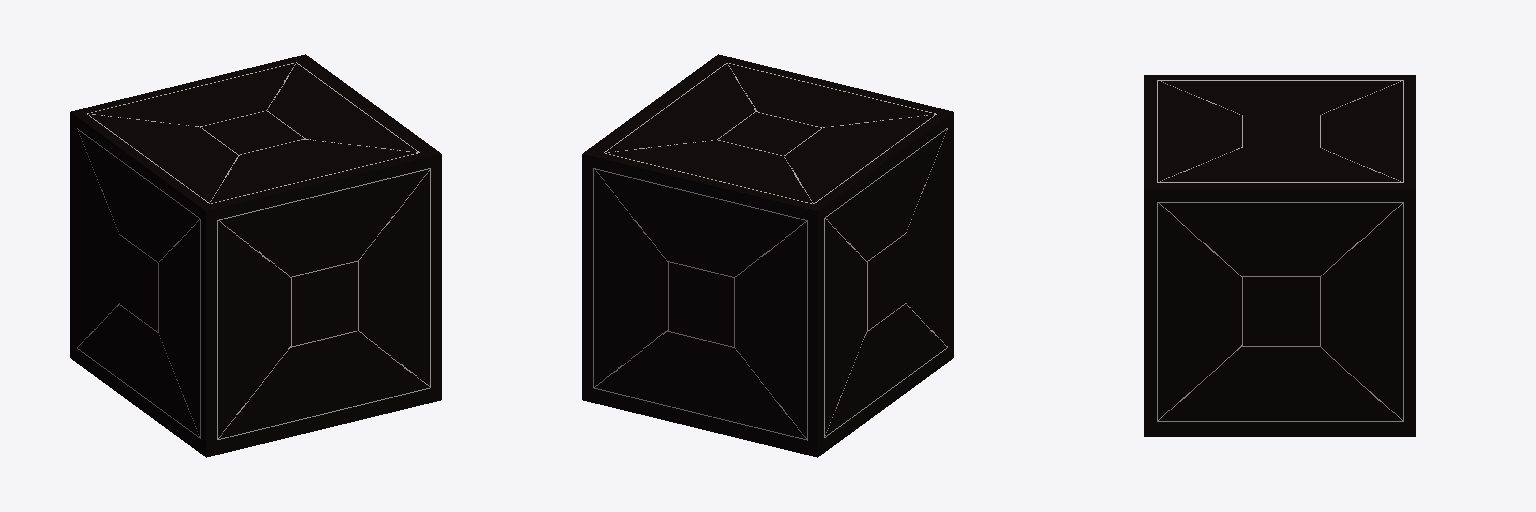
3 renders of one model, left to right at view 1: azimuth 30°, elevation 25°; view 2: azimuth 150°, elevation 25°; view 3: azimuth 270°, elevation 25°, orthographic.
Visible parts, largest first — view 1: Cube; view 2: Cube; view 3: Cube.
Boxes of the visible parts, <box> form: Cube: <box>70,54,441,457</box>; Cube: <box>582,54,953,457</box>; Cube: <box>1144,75,1415,436</box>.
Bounding box in the file's own units: 0.9967 × 0.9967 × 0.9967.
1 materials, 1 textured.